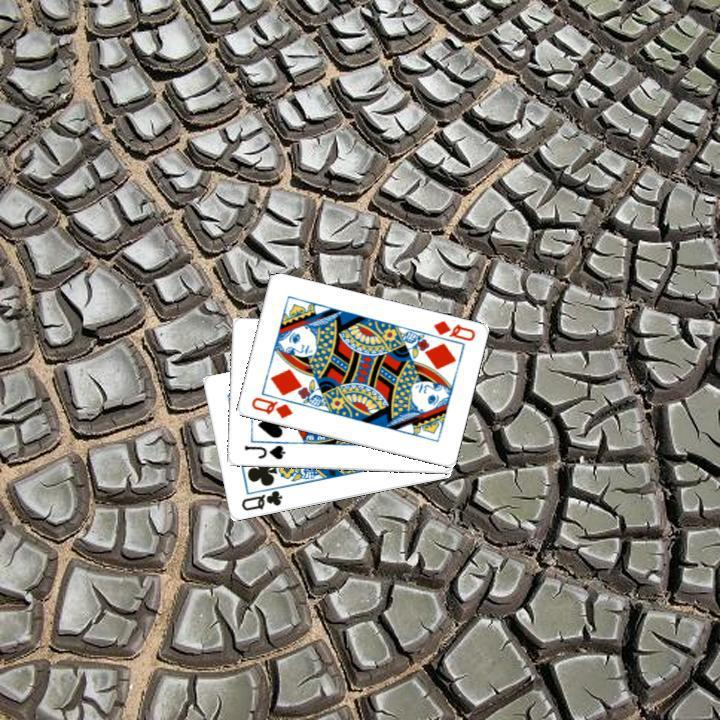J: (240, 441, 287, 462)
Q: (428, 316, 477, 343), (247, 393, 294, 421), (237, 486, 284, 513)
